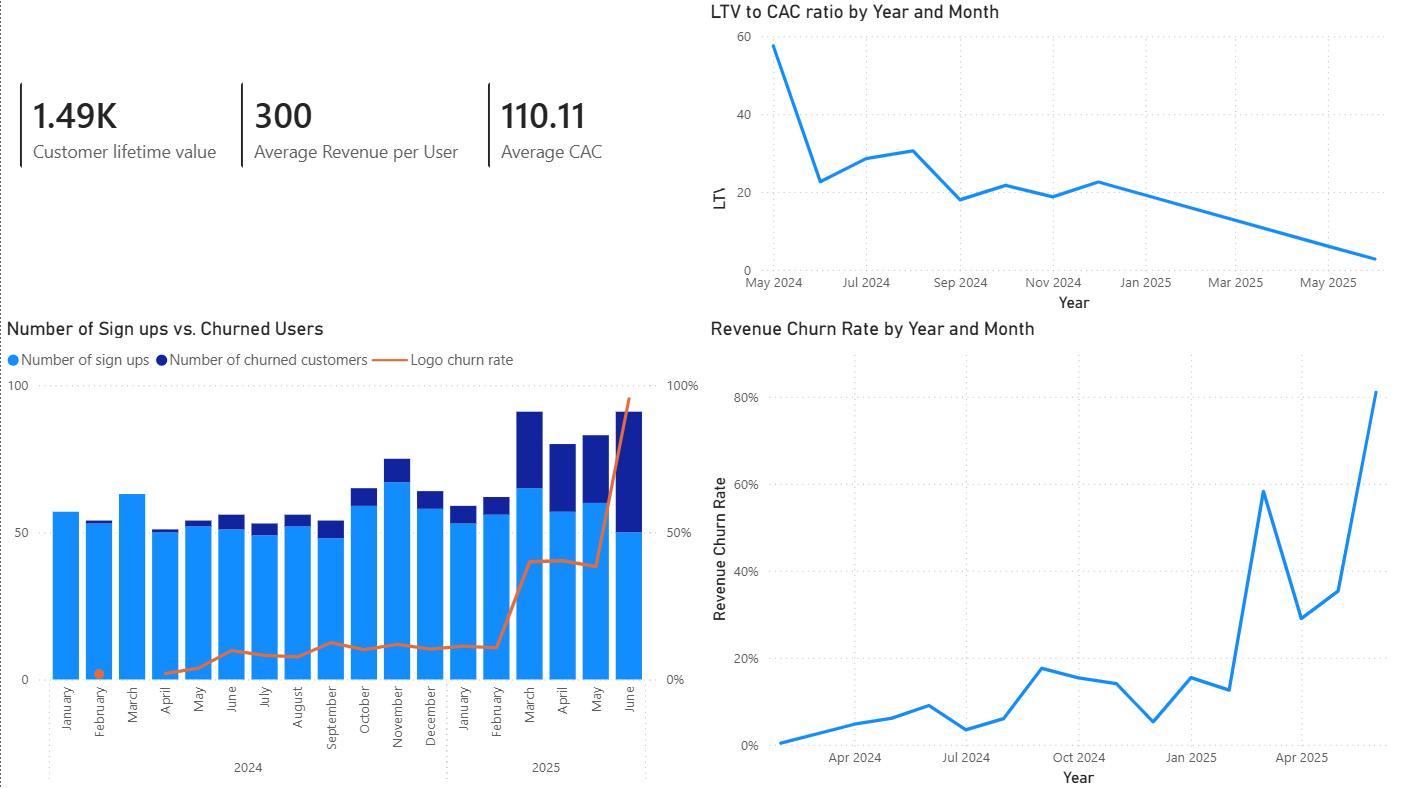

The page's visual inventory and layout, read from the dashboard file:
{"tool":"powerbi","page":{"name":"Loss Metrics","canvas":[1280,720],"ordinal":1},"visuals":[{"type":"lineStackedColumnComboChart","title":"Number of Sign ups vs. Churned Users","fields":{"Y":["CountNonNull(customers.signup_date)","customers.churned customers count"],"Category":["Date.Date.Variation.Date Hierarchy.Year","Date.Date.Variation.Date Hierarchy.Month"],"Y2":["customers.Logo churn rate"]},"box":[0,287.9,640,431.9],"z":0},{"type":"lineChart","fields":{"Y":["customers.Revenue Churn Rate"],"Category":["Date.Date.Variation.Date Hierarchy.Year","Date.Date.Variation.Date Hierarchy.Month"]},"box":[640,287.9,640,431.9],"z":1000},{"type":"cardVisual","fields":{"Data":["customers.Customer lifetime value"]},"box":[0,57.4,237.3,113.8],"z":2000},{"type":"lineChart","fields":{"Y":["customers.LTV to CAC ratio"],"Category":["Date.Date.Variation.Date Hierarchy.Year","Date.Date.Variation.Date Hierarchy.Month"]},"box":[640,0,640,288.3],"z":3000},{"type":"cardVisual","fields":{"Data":["customers.ARPU"]},"box":[201.3,57.4,252.9,113.8],"z":3001},{"type":"cardVisual","fields":{"Data":["customers.Average CAC"]},"box":[425,57.4,237.3,113.8],"z":3002}]}

Visuals, with their boxes in screenshot pixels (x1, y1, x2, y2), scaled from the page's 1280x720 canvas onto the 1407x788 screenshot:
"Number of Sign ups vs. Churned Users" lineStackedColumnComboChart: (left=0, top=315, right=704, bottom=787)
lineChart - customers.Revenue Churn Rate x Date.Date.Variation.Date Hierarchy.Year: (left=704, top=315, right=1406, bottom=787)
cardVisual - customers.Customer lifetime value: (left=0, top=63, right=261, bottom=187)
lineChart - customers.LTV to CAC ratio x Date.Date.Variation.Date Hierarchy.Year: (left=704, top=0, right=1406, bottom=316)
cardVisual - customers.ARPU: (left=221, top=63, right=499, bottom=187)
cardVisual - customers.Average CAC: (left=467, top=63, right=728, bottom=187)
